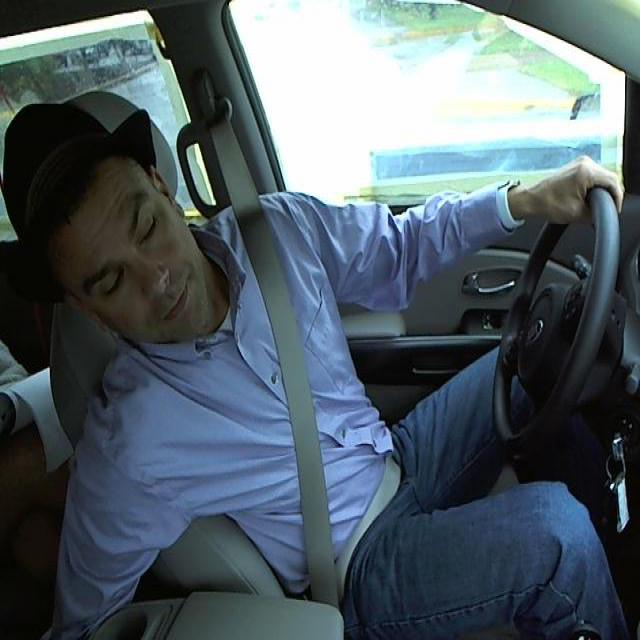seatbelt: (231, 212, 366, 572)
